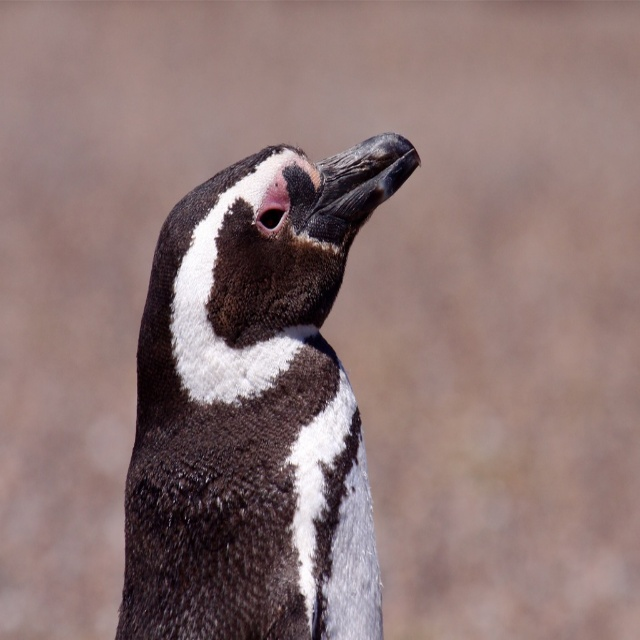Penguin: (116, 144, 421, 639)
